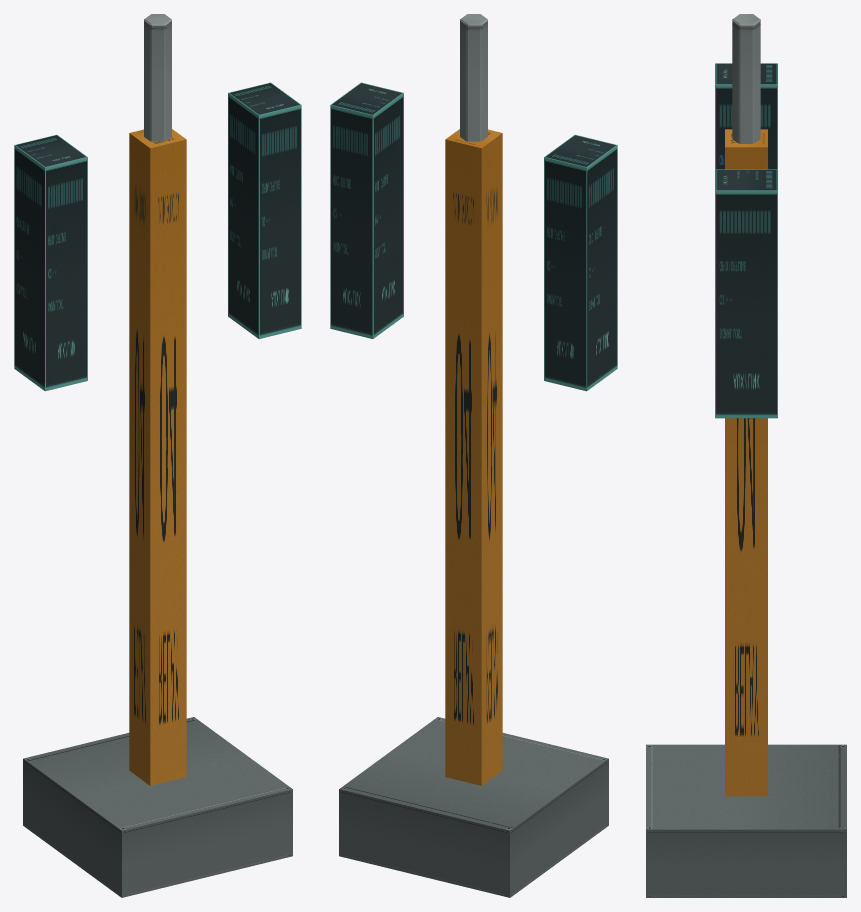
The model's file is relay_mast_LOD3.obj.
3 renders of one model, left to right at view 1: azimuth 30°, elevation 25°; view 2: azimuth 150°, elevation 25°; view 3: azimuth 270°, elevation 25°, orthographic.
Visible parts, largest first — view 1: L02_relay_mast_LOD3; view 2: L02_relay_mast_LOD3; view 3: L02_relay_mast_LOD3.
Boxes of the visible parts, x1,y1,x2,y2 form: L02_relay_mast_LOD3: (14,14,301,897); L02_relay_mast_LOD3: (330,14,617,897); L02_relay_mast_LOD3: (646,14,846,897).
Size of the model in its own units: 2.4 by 7.35 by 1.6.
1 material, 1 textured.
